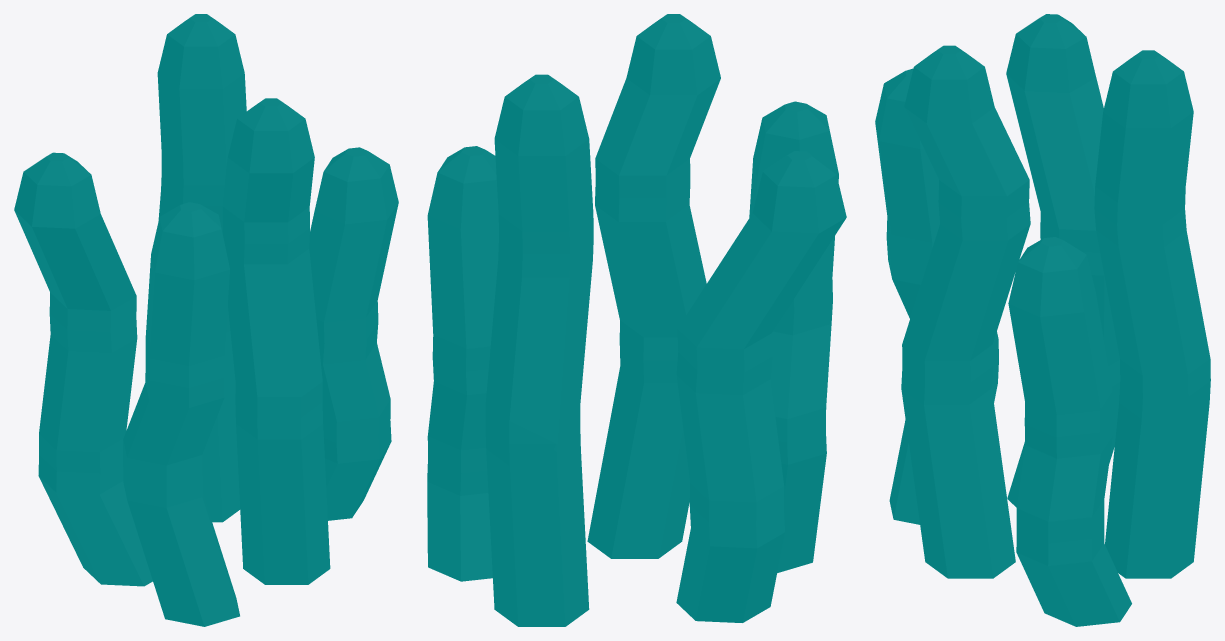
Rendered from grass_type_01.glb.
3 renders of one model, left to right at view 1: azimuth 30°, elevation 25°; view 2: azimuth 150°, elevation 25°; view 3: azimuth 270°, elevation 25°, orthographic. The views are drawn at different scales.
Parts seen in each view (by area): view 1: Cylinder; view 2: Cylinder; view 3: Cylinder.
Boxes of the visible parts, <box> form: Cylinder: <box>14,14,398,626</box>; Cylinder: <box>427,14,846,626</box>; Cylinder: <box>875,14,1210,626</box>.
Size of the model in its own units: 2.25 by 2.84 by 1.7.
